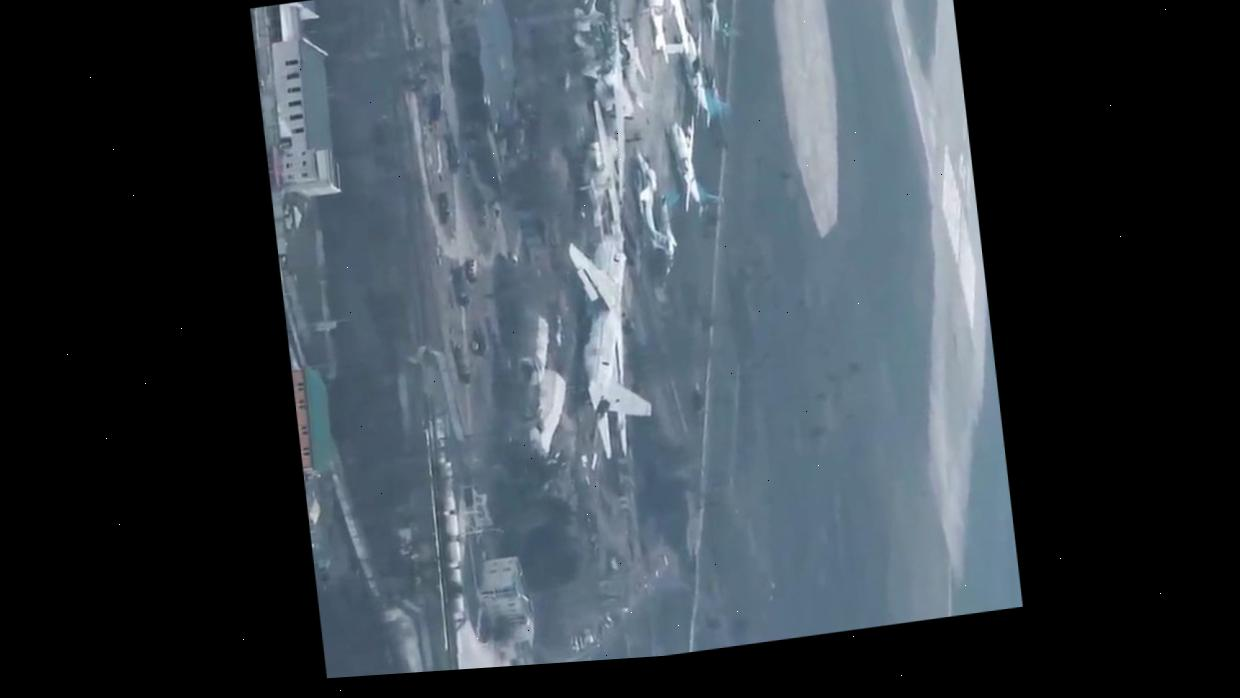plane: (564, 233, 659, 462), (560, 0, 648, 185), (567, 97, 633, 227), (663, 109, 726, 221), (673, 18, 730, 130), (627, 144, 673, 262), (630, 0, 704, 66), (694, 0, 738, 43)
